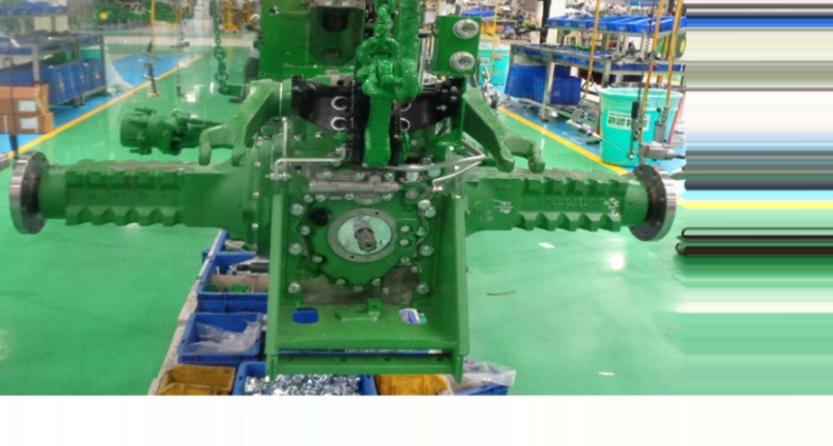engine: (9, 2, 671, 378)
